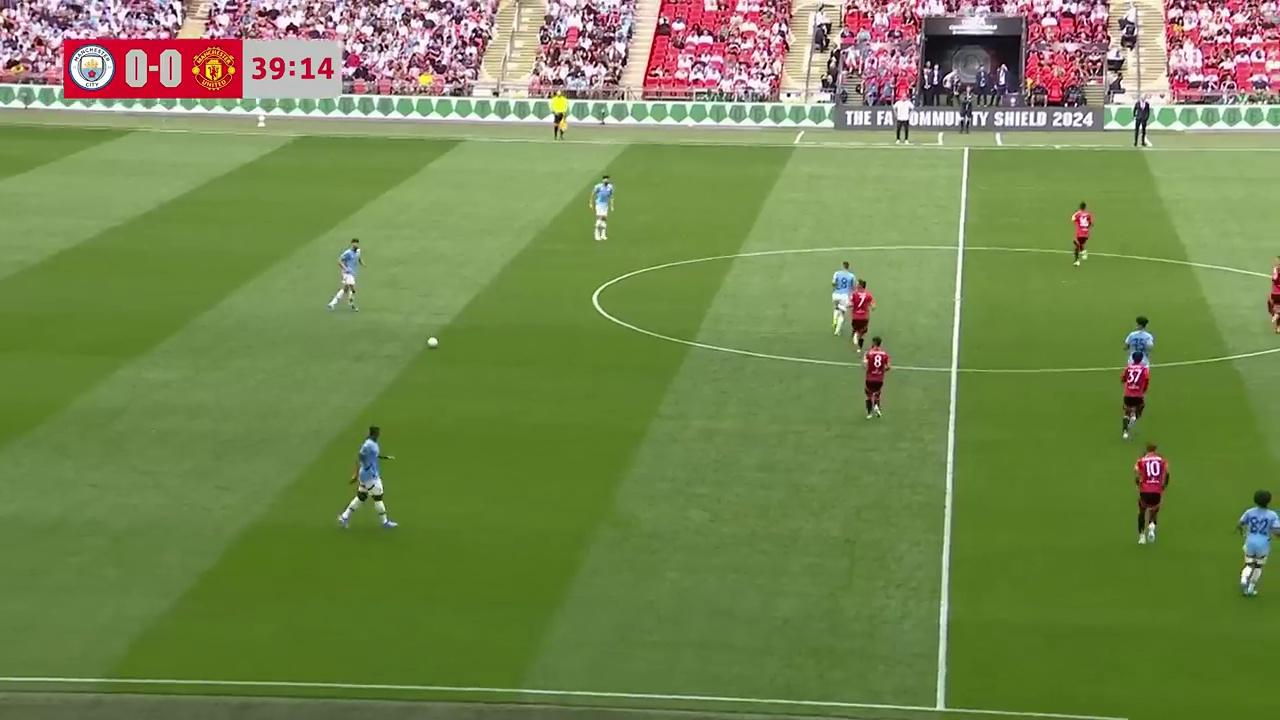ball: (424, 332, 440, 349)
player: (336, 425, 397, 530), (1234, 490, 1273, 597), (1133, 442, 1169, 545), (327, 237, 364, 313), (1119, 355, 1149, 439), (862, 336, 891, 419), (848, 279, 875, 355), (1123, 316, 1154, 379), (831, 261, 856, 335), (589, 175, 613, 241), (1070, 201, 1094, 266), (1266, 255, 1280, 335)
referee: (550, 93, 569, 140)
